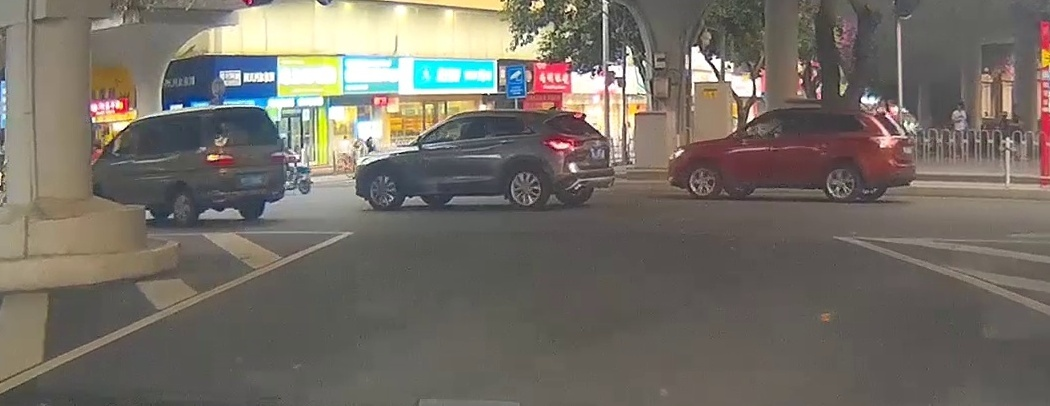L_light: (205, 153, 235, 166)
R_light: (270, 152, 288, 164)
T_light: (235, 108, 251, 113)
night-left: (203, 105, 289, 226)
